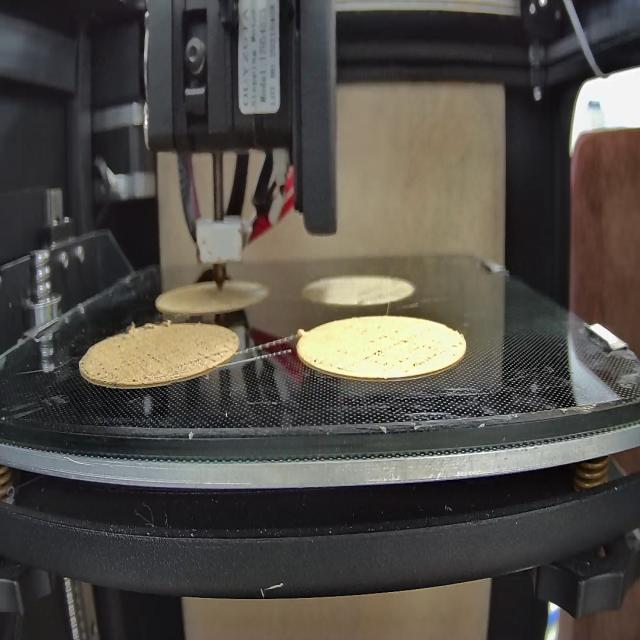under_extrusion: (365, 332, 440, 370), (96, 347, 170, 385), (310, 352, 346, 377), (186, 350, 225, 371)
